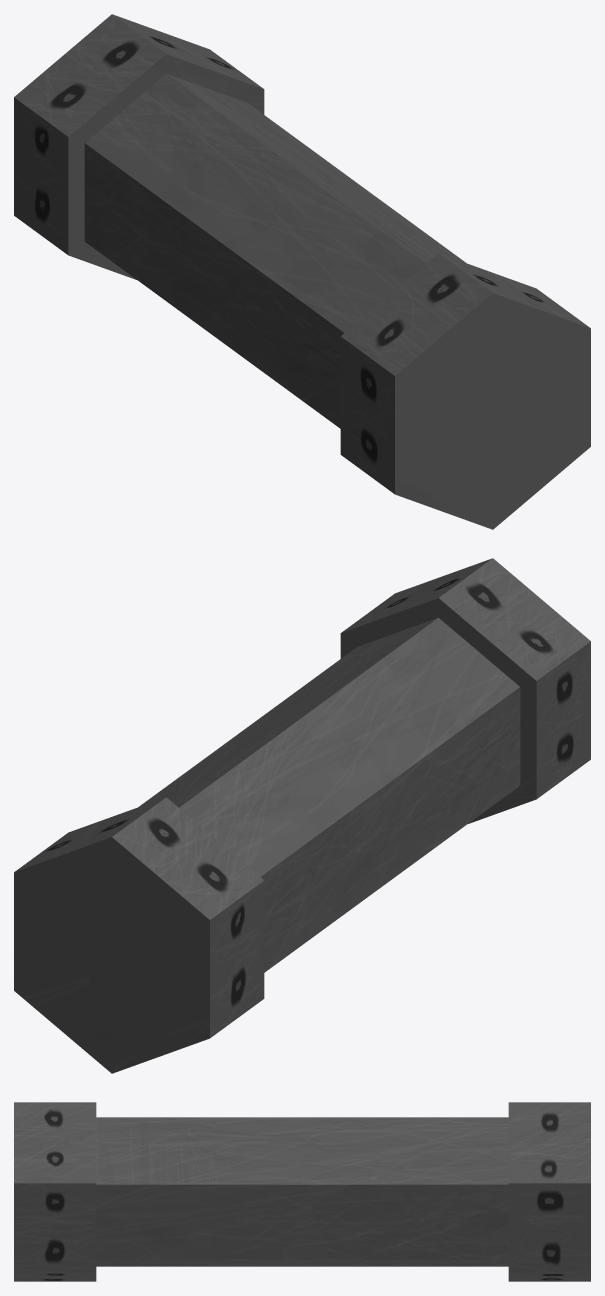
The model's file is Pipe.obj.
3 views of the same model, one above another, from view 1: azimuth 30°, elevation 25°; view 2: azimuth 150°, elevation 25°; view 3: azimuth 270°, elevation 25° (orthographic). The views are drawn at different scales.
Bounding box in the file's own units: 2.08 × 2.4 × 7.
